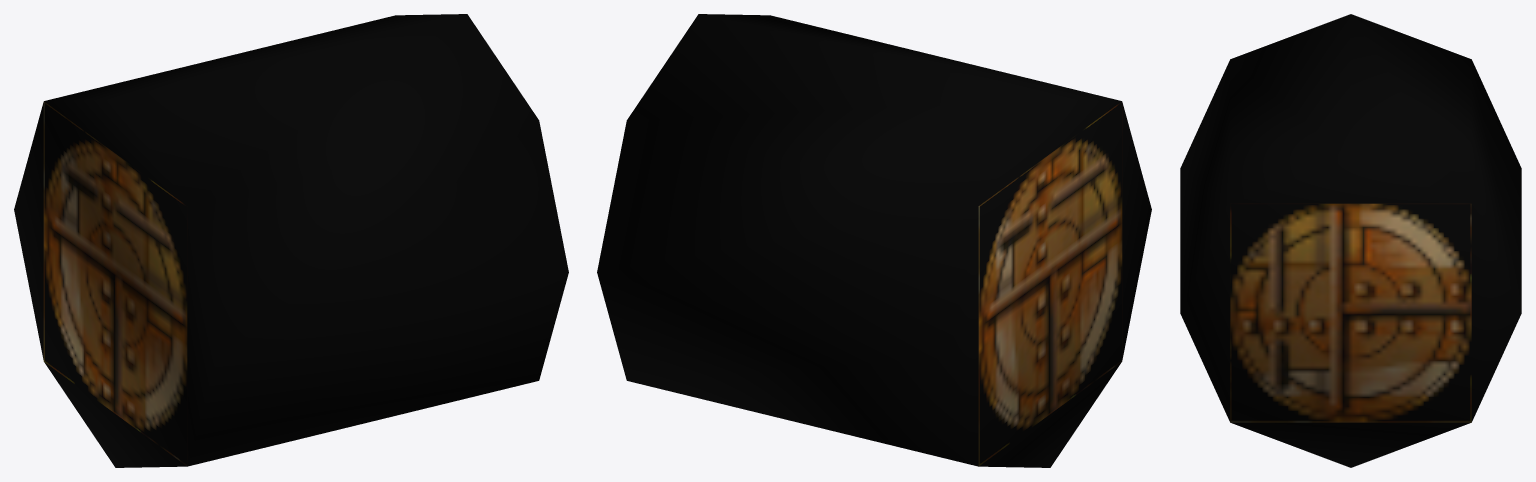
File: WheelFrontL.obj
The picture shows the model from 3 angles, left to right: view 1: azimuth 30°, elevation 25°; view 2: azimuth 150°, elevation 25°; view 3: azimuth 270°, elevation 25°; orthographic projection. The views are drawn at different scales.
Parts seen in each view (by area): view 1: WheelFrontL; view 2: WheelFrontL; view 3: WheelFrontL.
Boxes of the visible parts, x1=… form: WheelFrontL: x1=14, y1=14, x2=568, y2=467; WheelFrontL: x1=597, y1=14, x2=1151, y2=467; WheelFrontL: x1=1180, y1=14, x2=1521, y2=467.
Bounding box in the file's own units: 0.7999 × 0.7999 × 0.7999.
2 materials, 1 textured.
